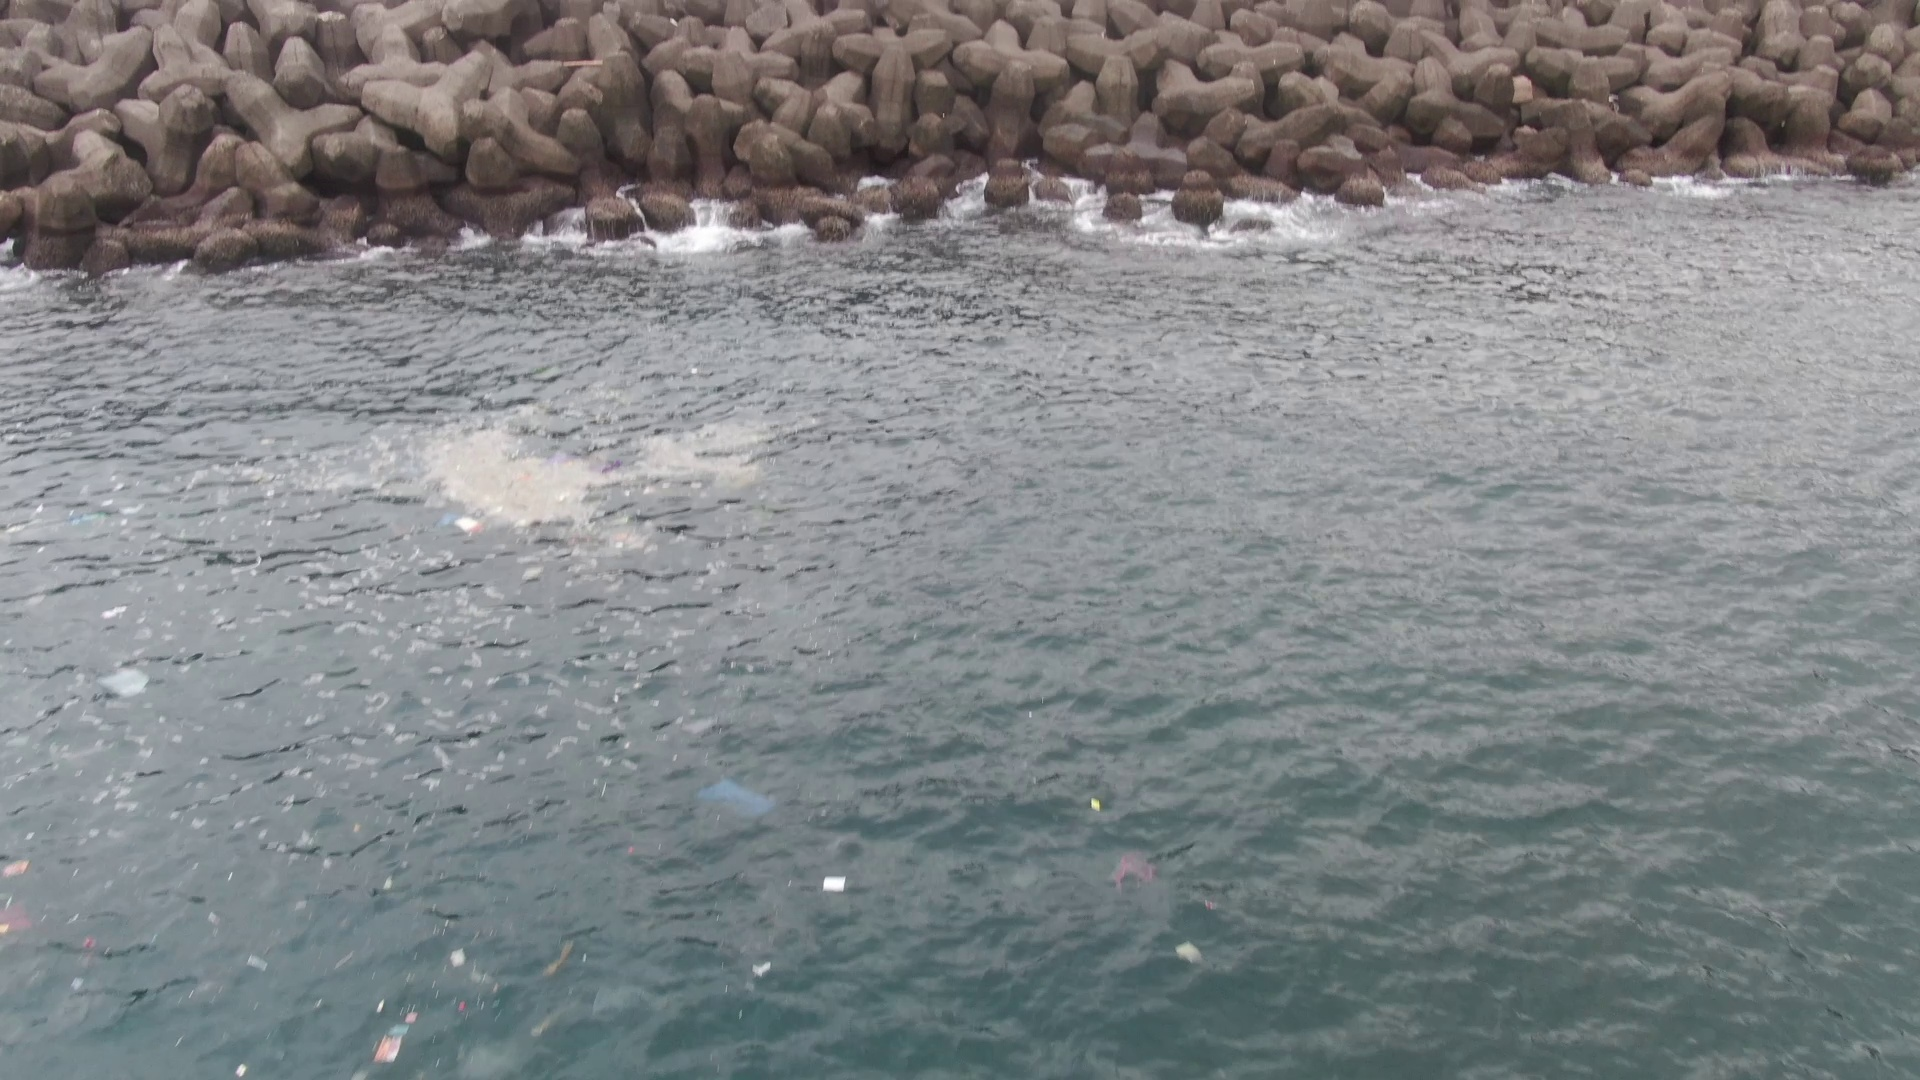bottle: (71, 512, 108, 531)
garbage: (402, 436, 626, 547), (700, 775, 770, 822), (373, 1006, 418, 1072), (3, 855, 30, 944), (1114, 849, 1155, 890), (100, 667, 152, 698), (541, 938, 578, 976), (73, 936, 96, 996), (1175, 944, 1205, 961), (103, 601, 125, 622), (822, 876, 847, 894), (1089, 796, 1104, 815)
